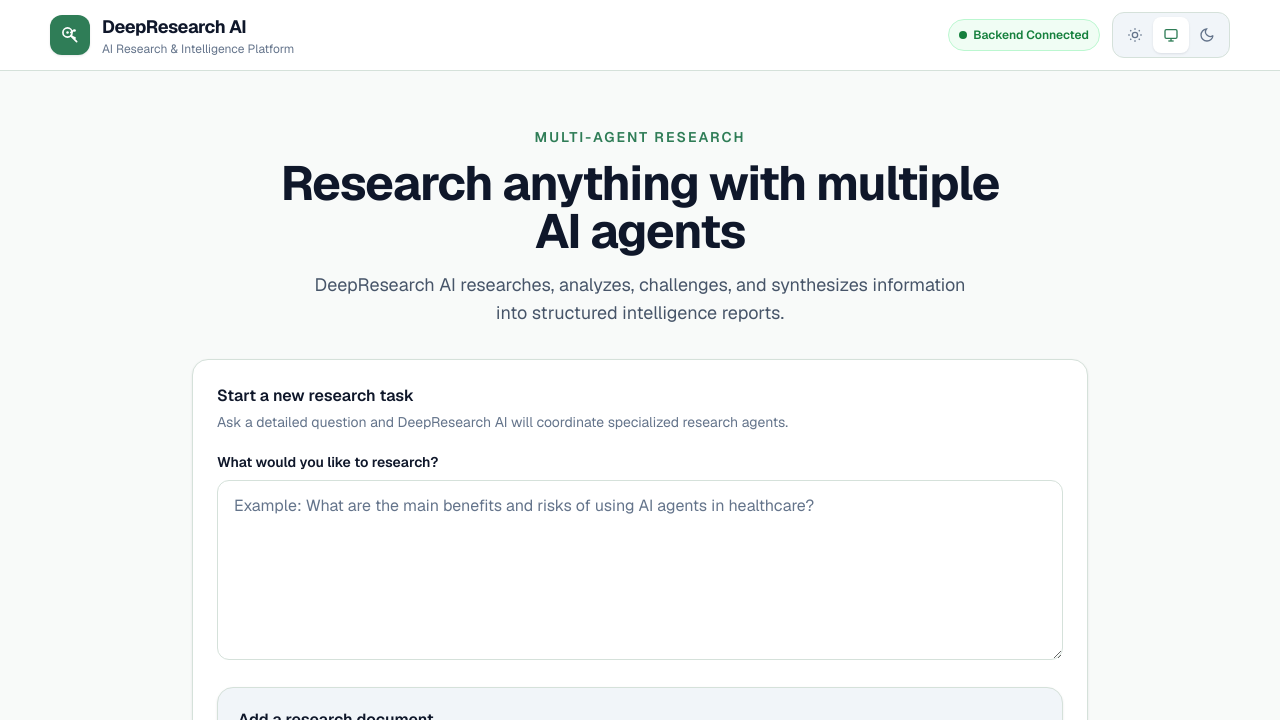
Test: Home page › shows validated research sources in the Sources tab
Type "How are AI agents used in healthcare?" into the text box labelled "What would you like to research?" at (640, 570), box x1=217 y1=480 x2=1063 y2=660
(page scrolled)
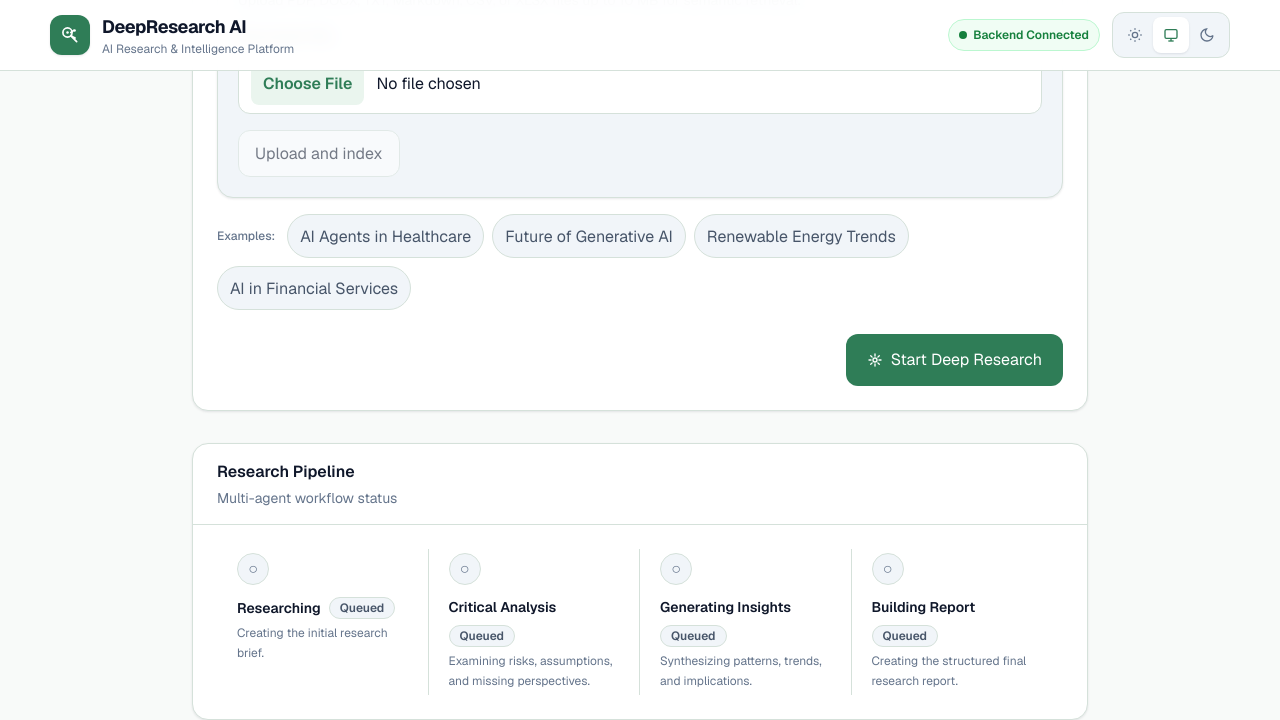
Click the button "Start Deep Research" at (954, 360), box x1=846 y1=334 x2=1063 y2=386
(page scrolled)
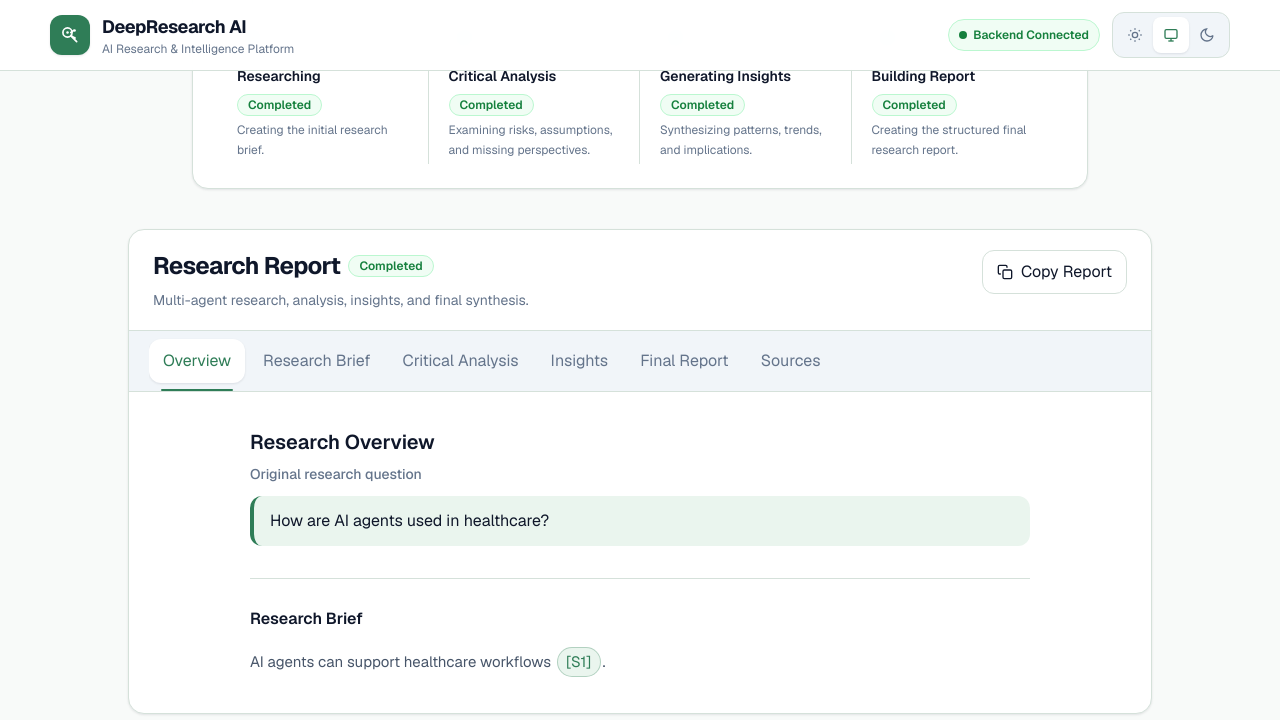
Now the heading "Research Report" is shown, box x1=153 y1=250 x2=340 y2=282
Click the tab "Sources" at (790, 361), box x1=747 y1=339 x2=834 y2=383
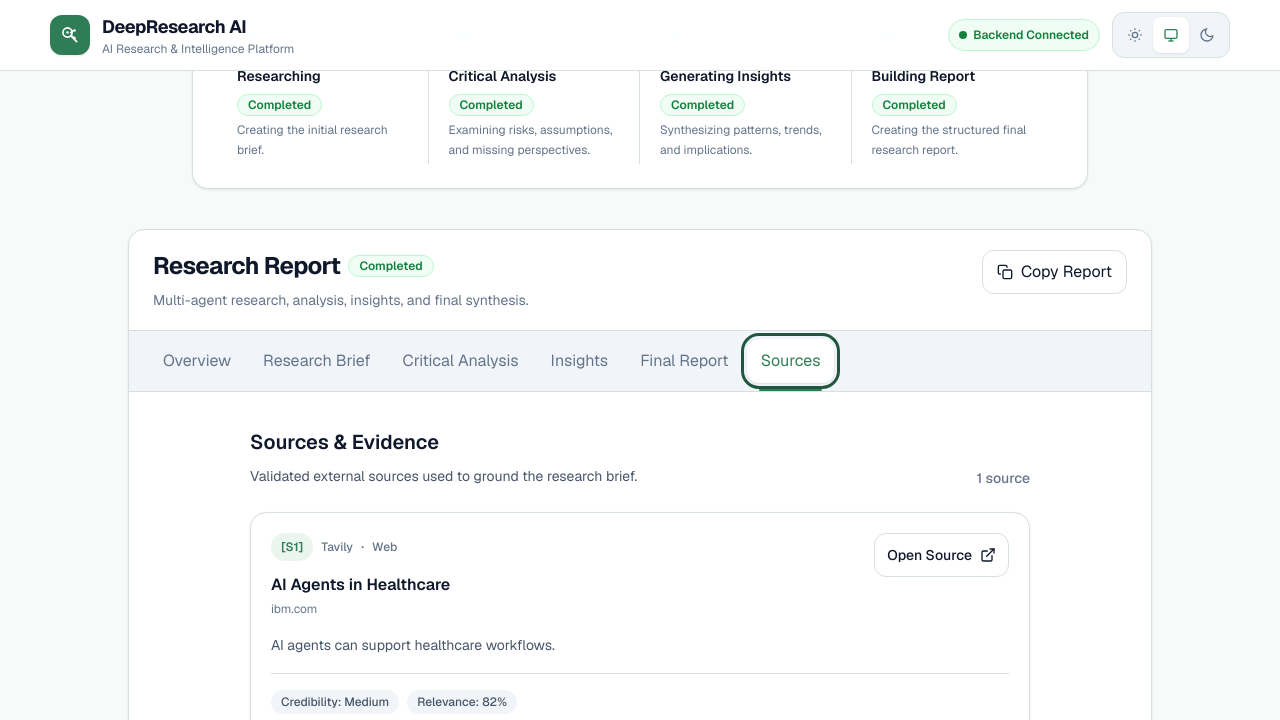
Now the text "[S1]" is shown, box x1=271 y1=533 x2=313 y2=561
Now the heading "Sources & Evidence" is shown, box x1=250 y1=429 x2=439 y2=455
Now the heading "AI Agents in Healthcare" is shown, box x1=271 y1=574 x2=450 y2=595
